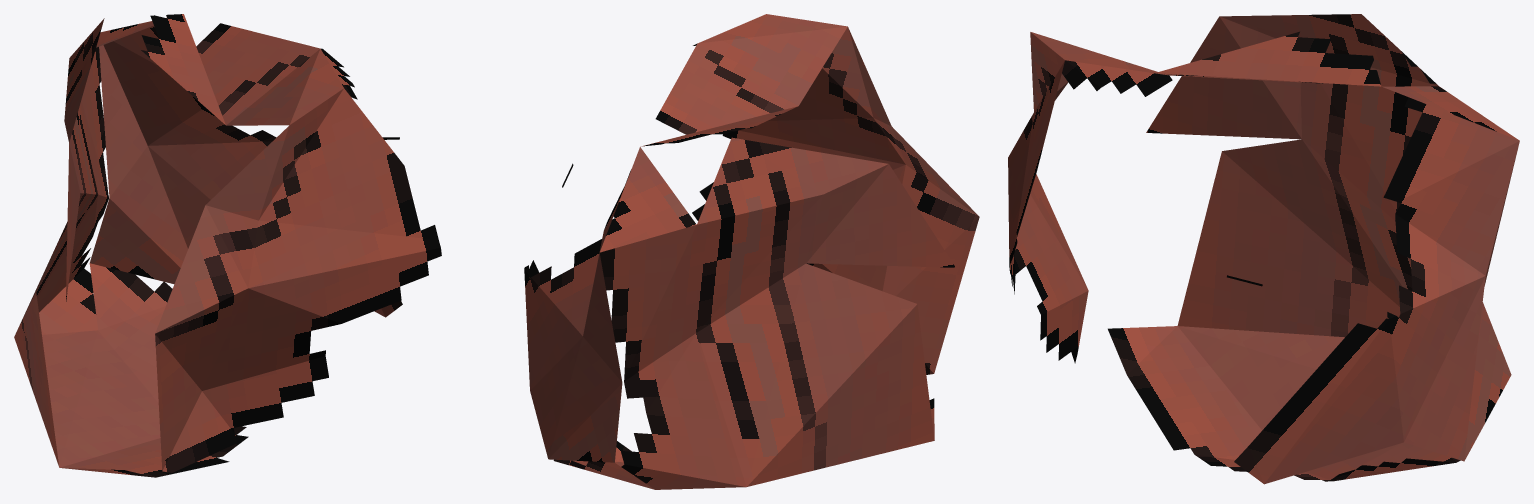
The model's file is copper_ore.fbx.
3 renders of one model, left to right at view 1: azimuth 30°, elevation 25°; view 2: azimuth 150°, elevation 25°; view 3: azimuth 270°, elevation 25°, orthographic. The views are drawn at different scales.
Parts seen in each view (by area): view 1: copper_ore; view 2: copper_ore; view 3: copper_ore.
Part boxes in pixels (<box>): copper_ore: <box>14,14,441,477</box>; copper_ore: <box>524,14,979,489</box>; copper_ore: <box>1008,14,1519,484</box>.
Size of the model in its own units: 16.57 by 16.31 by 17.33.
